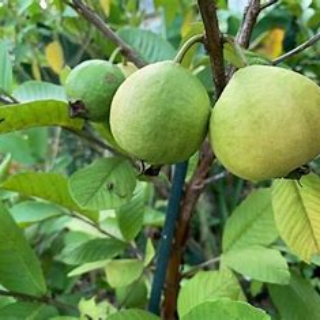oi: (211, 65, 320, 184), (110, 59, 209, 175)
